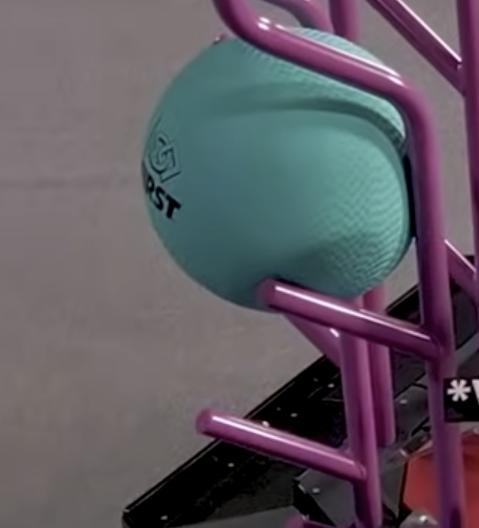algae: (141, 30, 413, 311)
